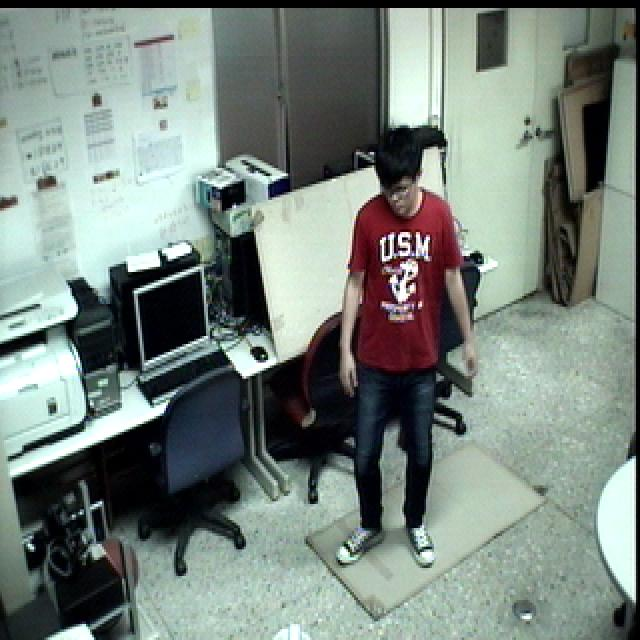stand: (338, 122, 486, 590)
